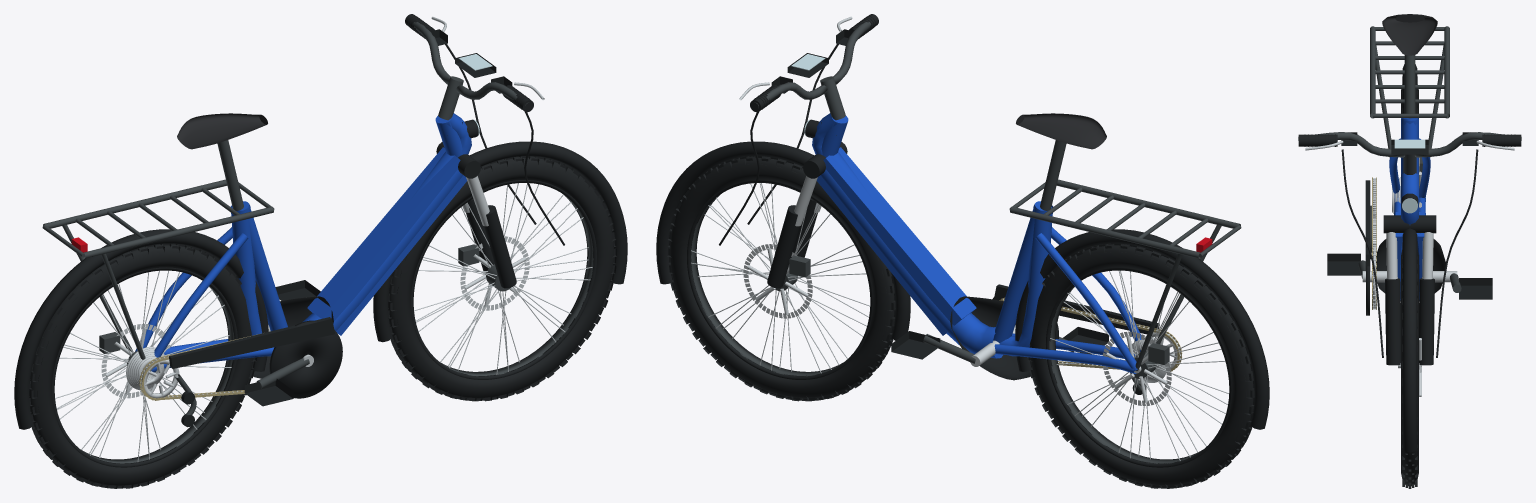
File: giant-explore-e-plus.glb
3 renders of one model, left to right at view 1: azimuth 30°, elevation 25°; view 2: azimuth 150°, elevation 25°; view 3: azimuth 270°, elevation 25°, orthographic. The views are drawn at different scales.
Visible parts, largest first — view 1: RearWheel | rubber, FrontWheel | rubber, Bodywork | black, BatteryMount | blue, Drive | black, Chassis | blue, Bodywork | graphite, FrontWheel | steel, RearWheel | steel, FrontWheel | black, RearWheel | black, Fork | black (+11 smaller); view 2: RearWheel | rubber, FrontWheel | rubber, BatteryMount | blue, Bodywork | black, Chassis | blue, Bodywork | graphite, FrontWheel | steel, RearWheel | steel, FrontWheel | black, RearWheel | black, Drive | black, Fork | black (+10 smaller); view 3: Bodywork | black, Bodywork | graphite, Fork | black, Drive | black, Cockpit | rubber, Chassis | blue, Bodywork | seat, FrontWheel | rubber, Cockpit | graphite, Fork | steel, Drive | steel, Cockpit | black (+6 smaller).
Boxes of the visible parts, x1,y1,x2,y2 form: RearWheel | rubber: [29, 243, 256, 488]; FrontWheel | rubber: [388, 156, 616, 401]; Bodywork | black: [14, 119, 627, 429]; BatteryMount | blue: [302, 147, 467, 335]; Drive | black: [169, 280, 342, 427]; Chassis | blue: [135, 113, 471, 372]; Bodywork | graphite: [42, 179, 274, 359]; FrontWheel | steel: [414, 183, 592, 374]; RearWheel | steel: [55, 270, 231, 462]; FrontWheel | black: [411, 180, 596, 379]; RearWheel | black: [52, 267, 237, 467]; Fork | black: [436, 142, 516, 288]; RearWheel | rubber: [1027, 243, 1254, 488]; FrontWheel | rubber: [667, 156, 895, 401]; BatteryMount | blue: [816, 147, 1002, 358]; Bodywork | black: [656, 119, 1269, 429]; Chassis | blue: [812, 113, 1141, 373]; Bodywork | graphite: [1009, 179, 1241, 370]; FrontWheel | steel: [691, 183, 870, 373]; RearWheel | steel: [1050, 270, 1228, 460]; FrontWheel | black: [687, 180, 872, 379]; RearWheel | black: [1046, 267, 1231, 467]; Drive | black: [891, 284, 1159, 394]; Fork | black: [767, 142, 847, 288]; Bodywork | black: [1401, 64, 1418, 452]; Bodywork | graphite: [1370, 26, 1449, 157]; Fork | black: [1383, 215, 1436, 365]; Drive | black: [1327, 180, 1492, 315]; Cockpit | rubber: [1298, 134, 1521, 357]; Chassis | blue: [1389, 118, 1430, 224]; Bodywork | seat: [1382, 14, 1437, 55]; FrontWheel | rubber: [1401, 242, 1418, 488]; Cockpit | graphite: [1298, 132, 1521, 174]; Fork | steel: [1386, 232, 1433, 279]; Drive | steel: [1362, 177, 1457, 309]; Cockpit | black: [1304, 132, 1515, 154].
Size of the model in its own units: 1.98 by 1.07 by 0.6634.
